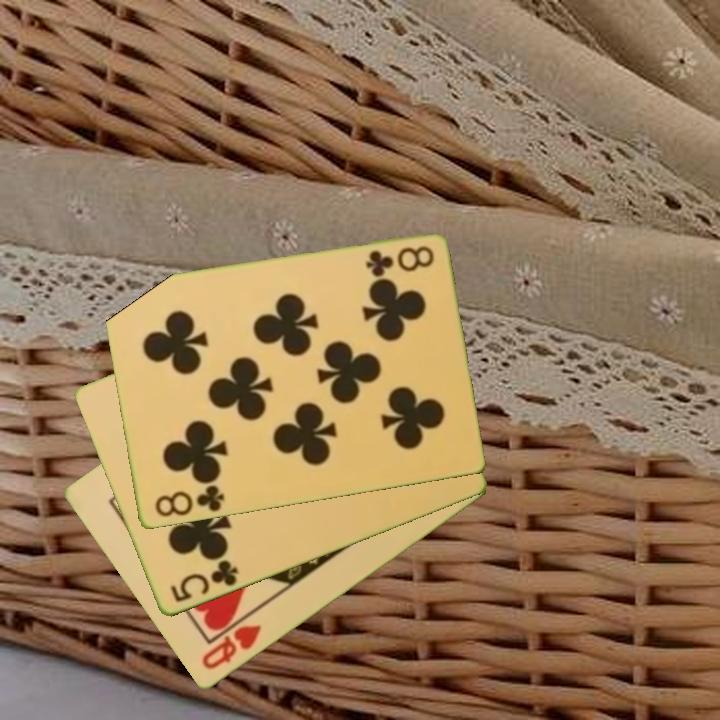5c: (167, 557, 241, 606)
8c: (151, 480, 227, 521), (362, 243, 437, 279)
Qh: (198, 621, 265, 674)
